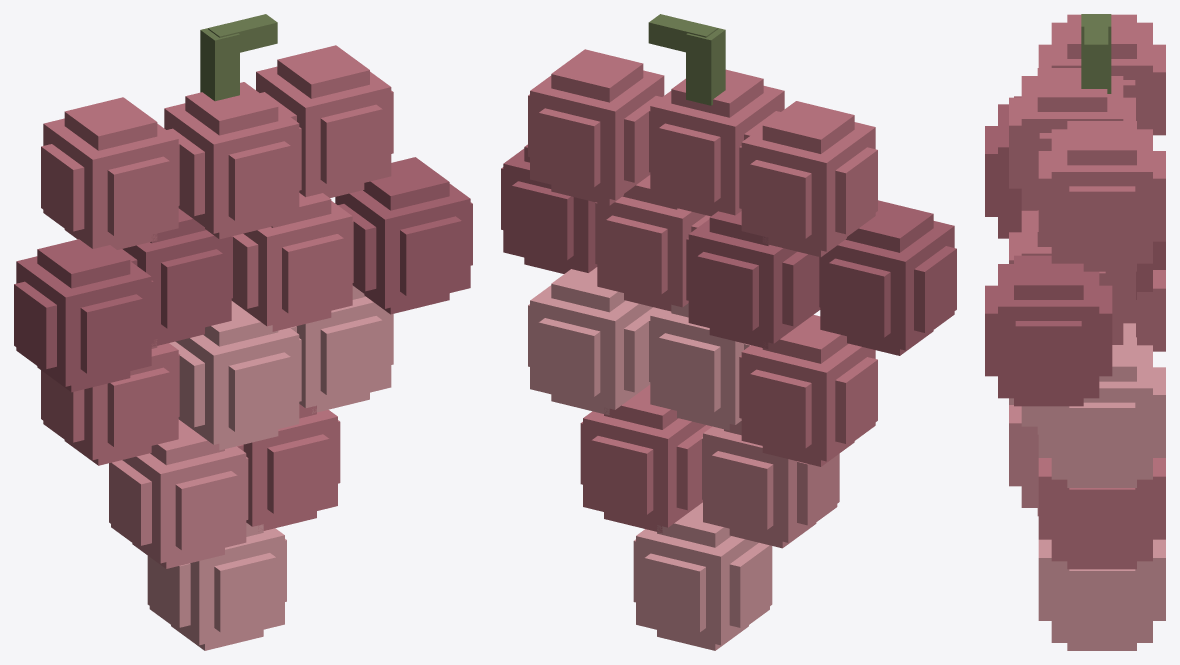
Rendered from GR-04_redglobe.glb.
3 renders of one model, left to right at view 1: azimuth 30°, elevation 25°; view 2: azimuth 150°, elevation 25°; view 3: azimuth 270°, elevation 25°, orthographic. The views are drawn at different scales.
Parts seen in each view (by area): view 1: Redglobe · original workbench cubes; view 2: Redglobe · original workbench cubes; view 3: Redglobe · original workbench cubes.
Part boxes in pixels (bbox=[...]): Redglobe · original workbench cubes: bbox=[14, 14, 472, 650]; Redglobe · original workbench cubes: bbox=[501, 14, 956, 650]; Redglobe · original workbench cubes: bbox=[985, 14, 1165, 650].
Bounding box in the file's own units: 0.1693 × 0.2286 × 0.0606.
